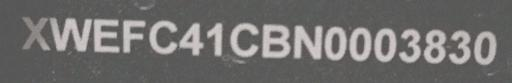letter: (50, 14, 92, 53), (260, 20, 292, 59), (117, 17, 147, 58), (232, 19, 262, 60), (202, 17, 230, 60), (472, 26, 500, 69), (291, 22, 325, 57), (93, 16, 121, 57), (150, 17, 178, 56), (22, 14, 48, 53), (179, 19, 205, 58), (423, 26, 449, 65), (447, 27, 473, 66), (348, 23, 374, 60), (372, 25, 398, 62), (399, 25, 423, 64), (324, 25, 348, 60)
